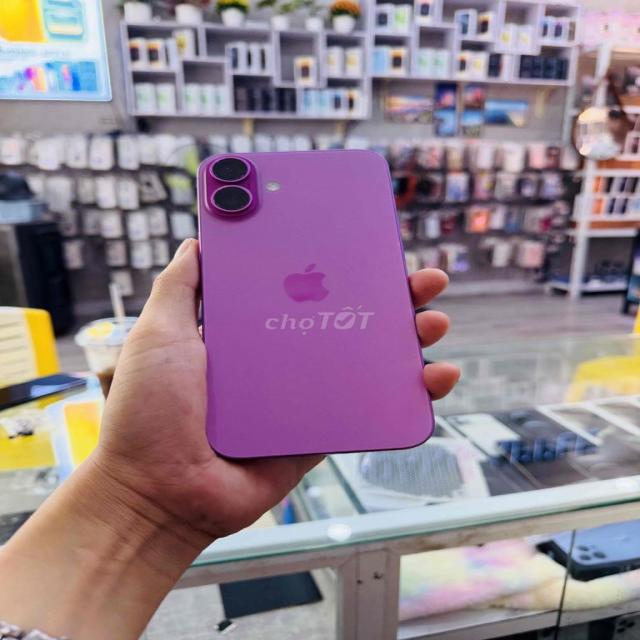gen_16: (198, 150, 432, 458)
